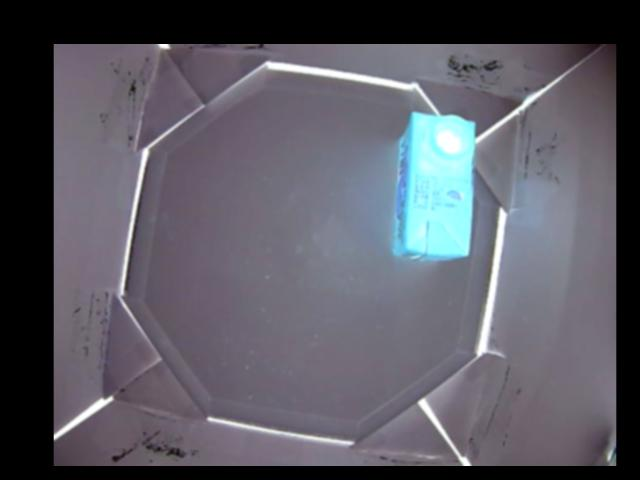Bottle: (392, 109, 477, 261)
